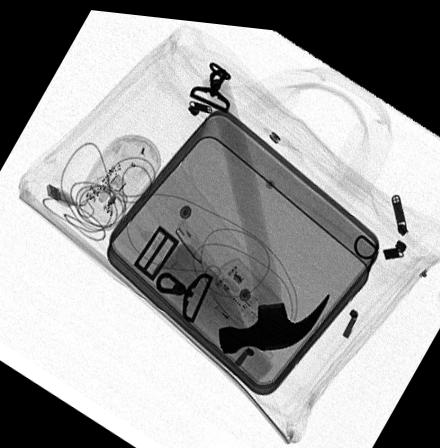Hammer: (200, 61, 330, 349)
